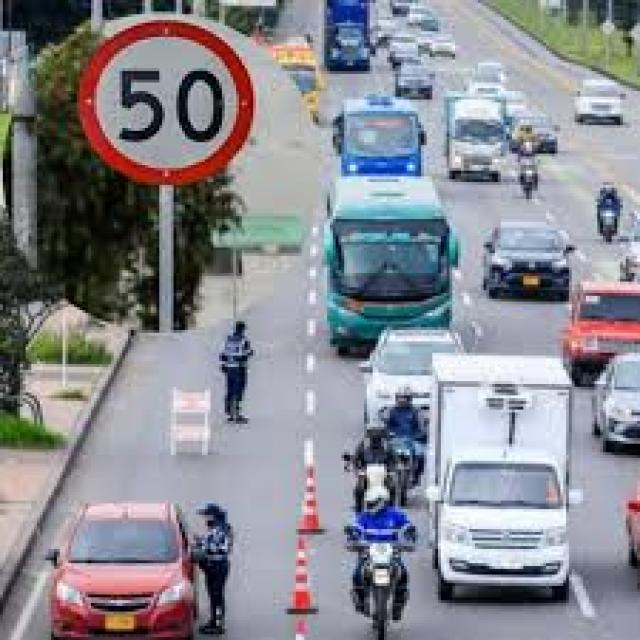Speed limit 50: (75, 12, 257, 189)
